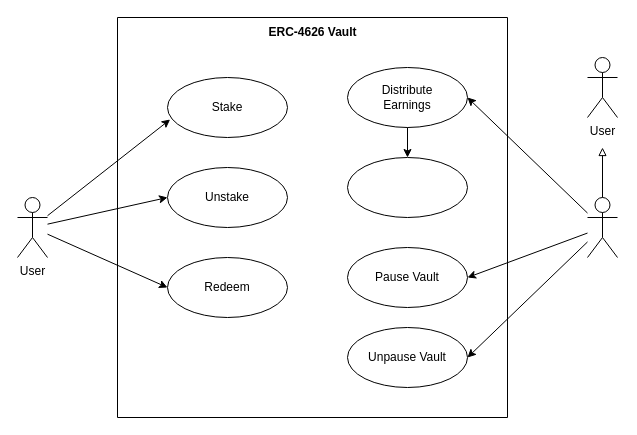
The diagram is 637 pixels wide and 435 high, and some of its shapes have lost their labels. The centre of each missing label's shape, as x and y in pixels:
"Calculate Rewards" goes at (407,187).
"Owner" goes at (602,227).
